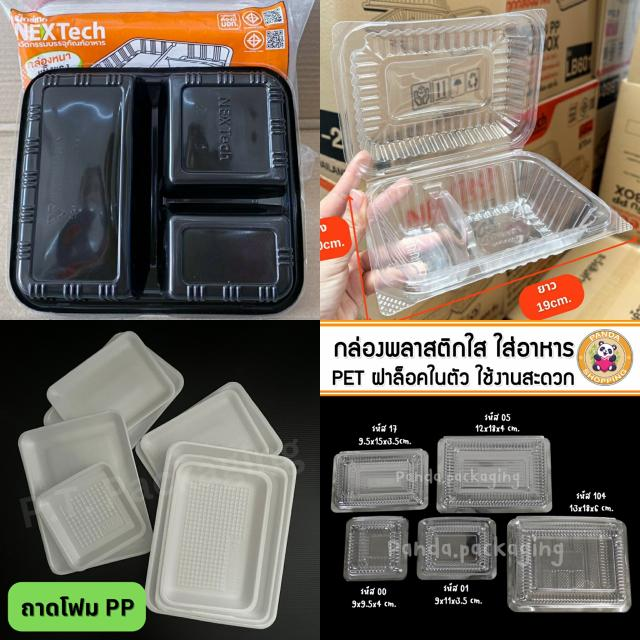Single-Use-Plastic: (331, 10, 630, 315), (11, 68, 302, 312), (146, 442, 295, 628), (19, 410, 152, 574), (44, 331, 184, 447), (135, 382, 282, 485), (508, 516, 630, 612), (436, 436, 551, 514), (331, 449, 429, 512), (415, 518, 496, 579), (344, 516, 409, 581)
